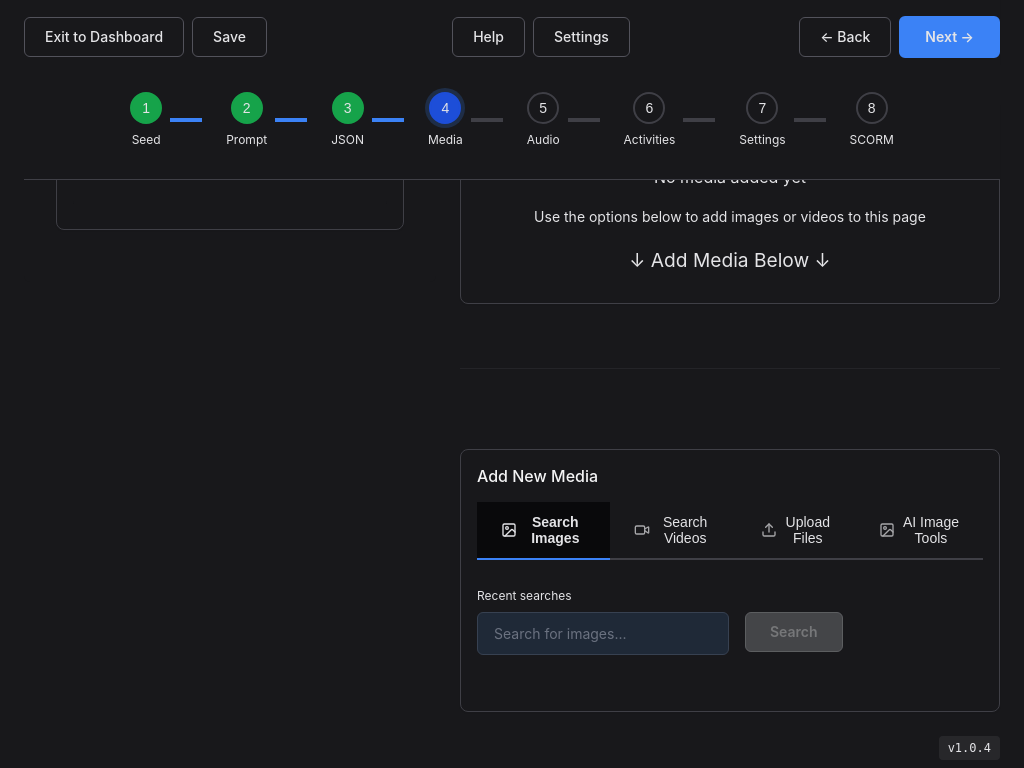
MediaEnhancementWizard - Refined Error Handling › should show error dialog for invalid API key (403) and NOT fall back to mock data
(page scrolled)
Expected: the heading "Topic 1" is shown, [113, 92, 160, 110]
Note: Perform search with invalid API key
In the field with placeholder "Search for images...": (603, 634) [477, 612, 729, 655], type "test search"
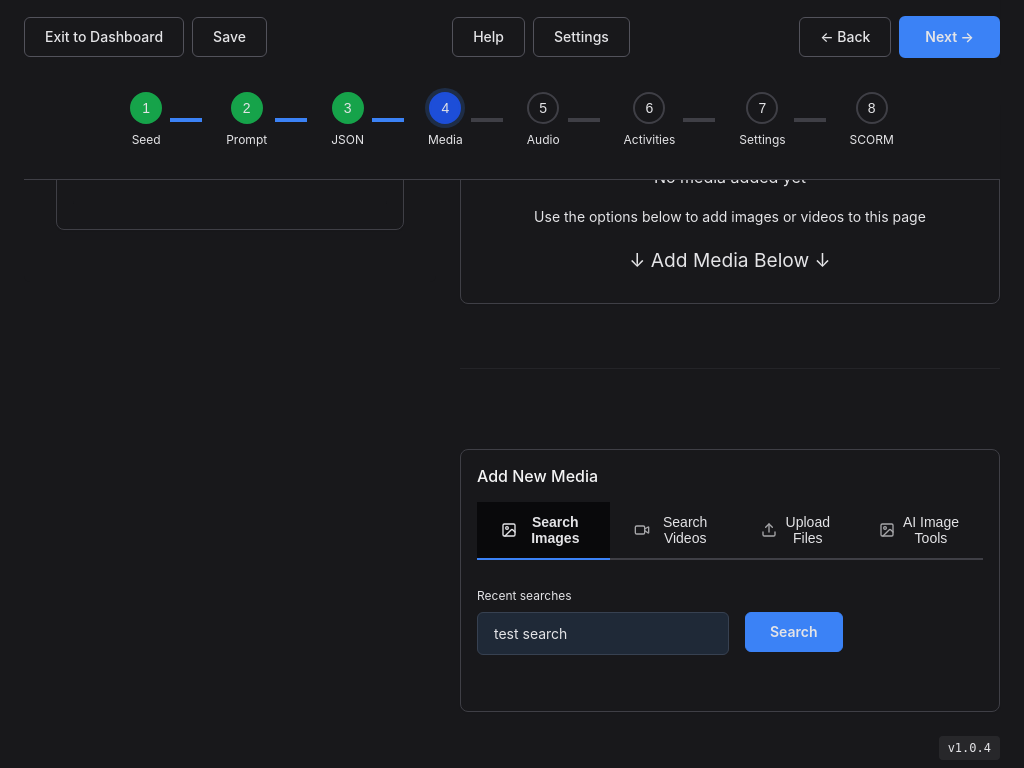
Click the button with aria-label "search images": (794, 632) [745, 612, 842, 652]
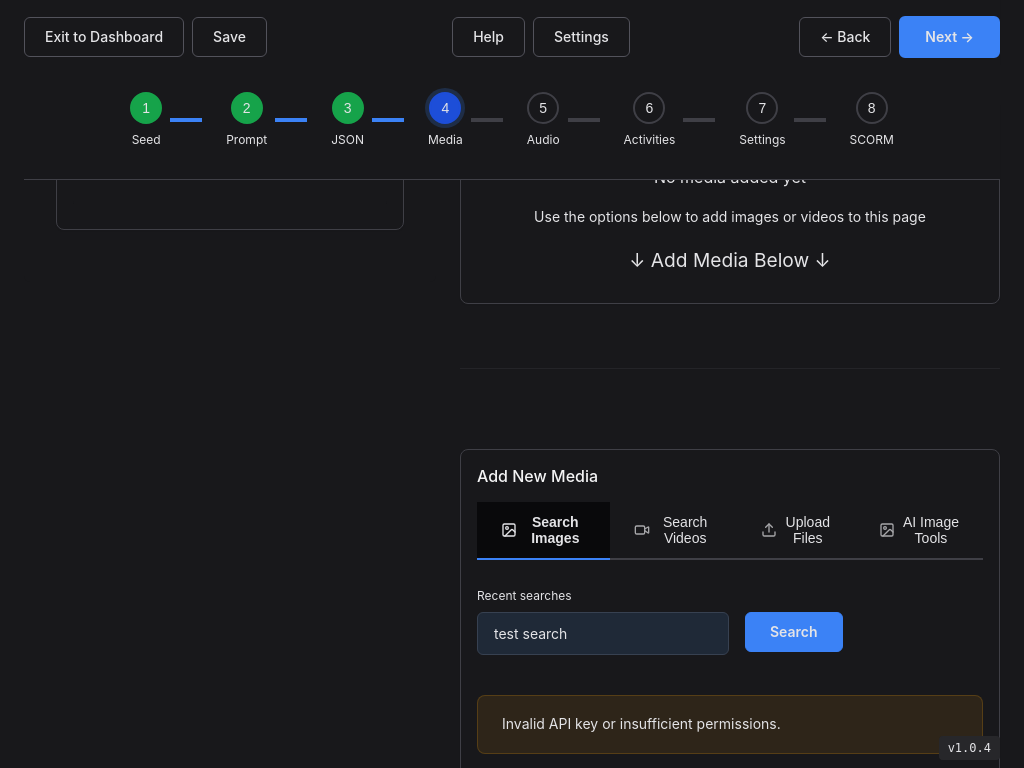
Expected: the text "Invalid API key or insufficient permissions." is shown, [477, 695, 983, 754]
